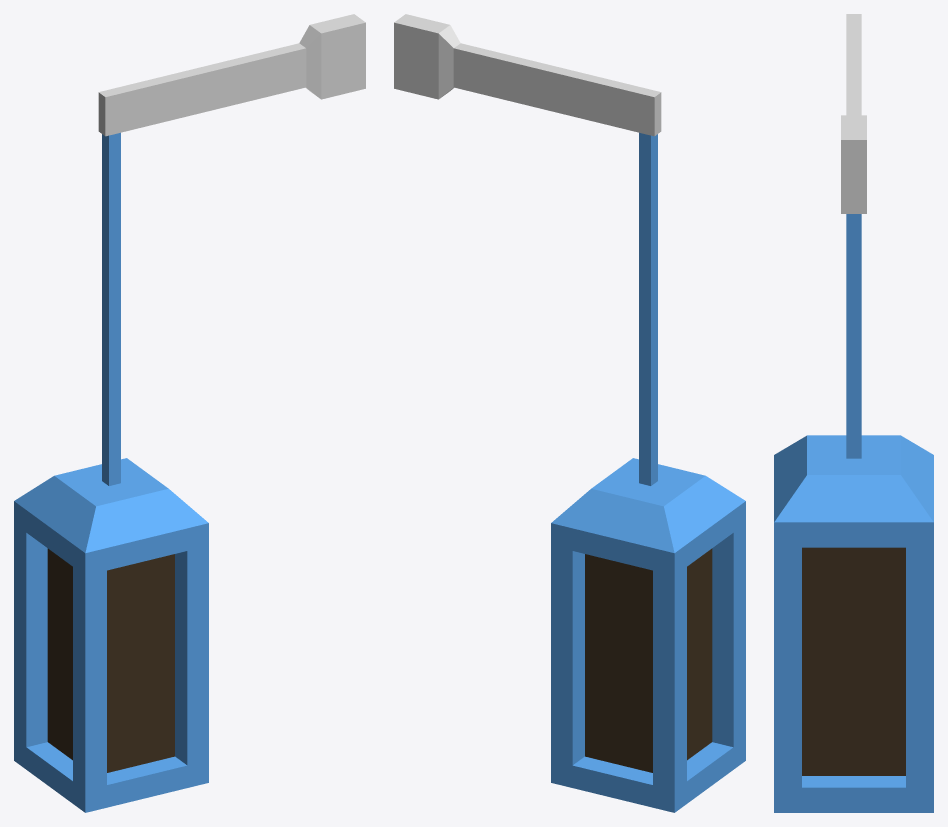
The model's file is light.fbx.
3 renders of one model, left to right at view 1: azimuth 30°, elevation 25°; view 2: azimuth 150°, elevation 25°; view 3: azimuth 270°, elevation 25°, orthographic. The views are drawn at different scales.
Parts seen in each view (by area): view 1: Cube.054, Cube.001; view 2: Cube.054, Cube.001; view 3: Cube.054, Cube.001.
Part boxes in pixels (<box>): Cube.054: <box>14,132,208,812</box>; Cube.001: <box>98,14,365,136</box>; Cube.054: <box>551,132,745,812</box>; Cube.001: <box>394,14,661,136</box>; Cube.054: <box>774,214,933,812</box>; Cube.001: <box>841,14,866,213</box>.
Bounding box in the file's own units: 222 × 473 × 88.31.
